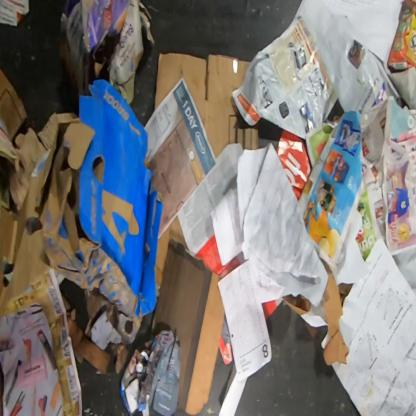cardboard: (0, 66, 189, 386), (150, 245, 225, 416), (154, 53, 259, 159), (61, 0, 156, 111), (388, 0, 415, 70), (283, 294, 311, 314), (262, 298, 283, 322)
